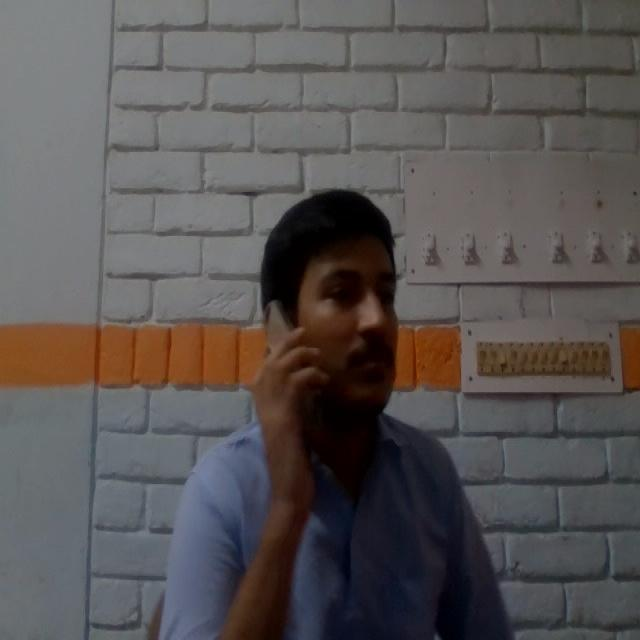oncall: (161, 190, 514, 640)
phone: (250, 303, 330, 447)
